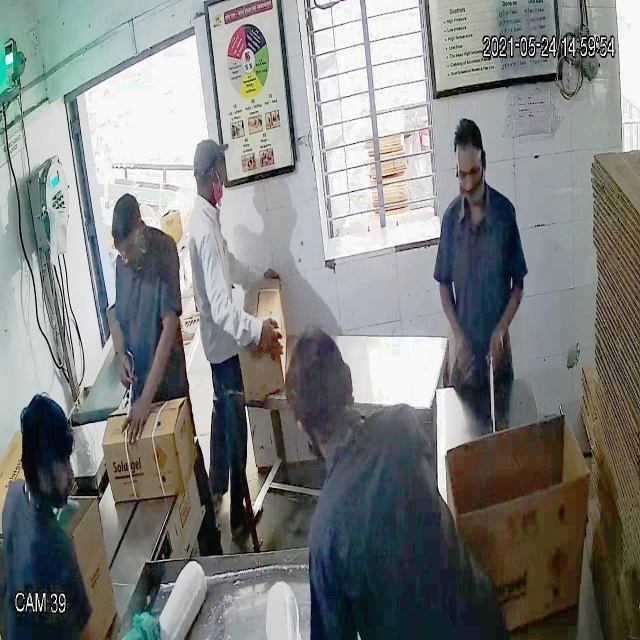Gafas: (111, 236, 144, 263), (455, 156, 485, 184)
